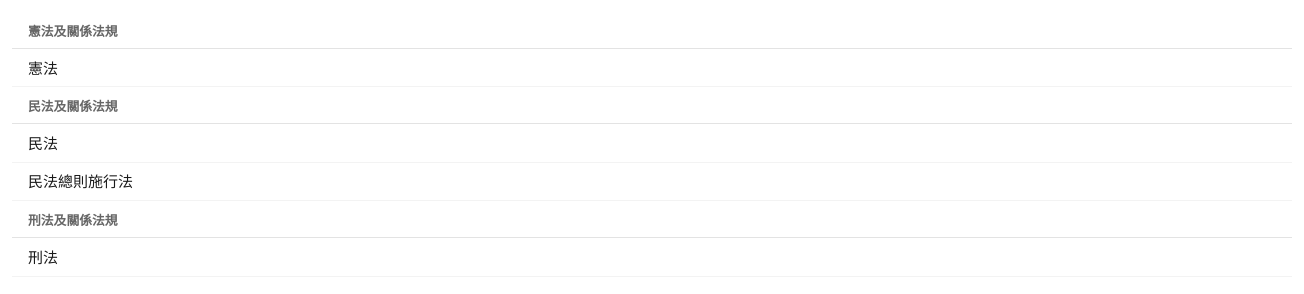
Test: TocPane 編章節樹 › 沒有編章節的單行法直接列出條文
What coordinates should you click on to do the following:
click the button "刑法"
I would click on:
 (43, 257)
Its box is x1=12 y1=238 x2=1292 y2=277.
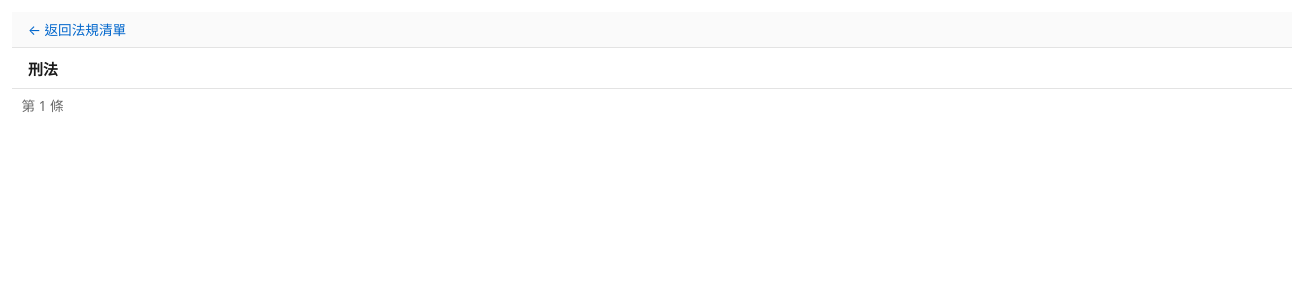
Expected: the button "第 1 條" is shown, x1=12 y1=89 x2=1292 y2=124
